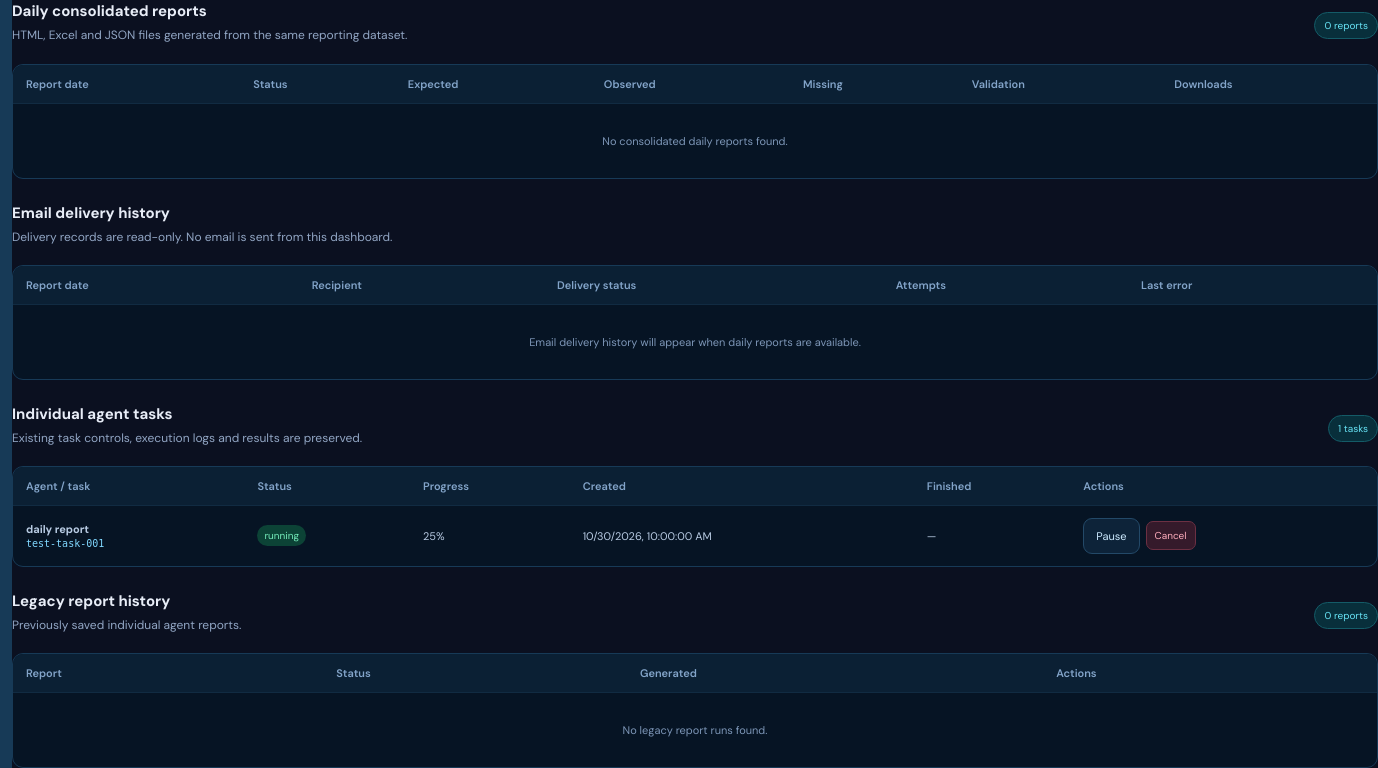
Test case: AgentMonitoring › pauses a running task after confirmation
This screenshot has width=1378, height=768.
(page scrolled)
Expected: the text "test-task-001" is shown, [26,538,104,549]
What coordinates should you click on to do the following:
click the button "Pause"
I would click on:
 (1111, 536)
Its box is [1083,518,1140,554].
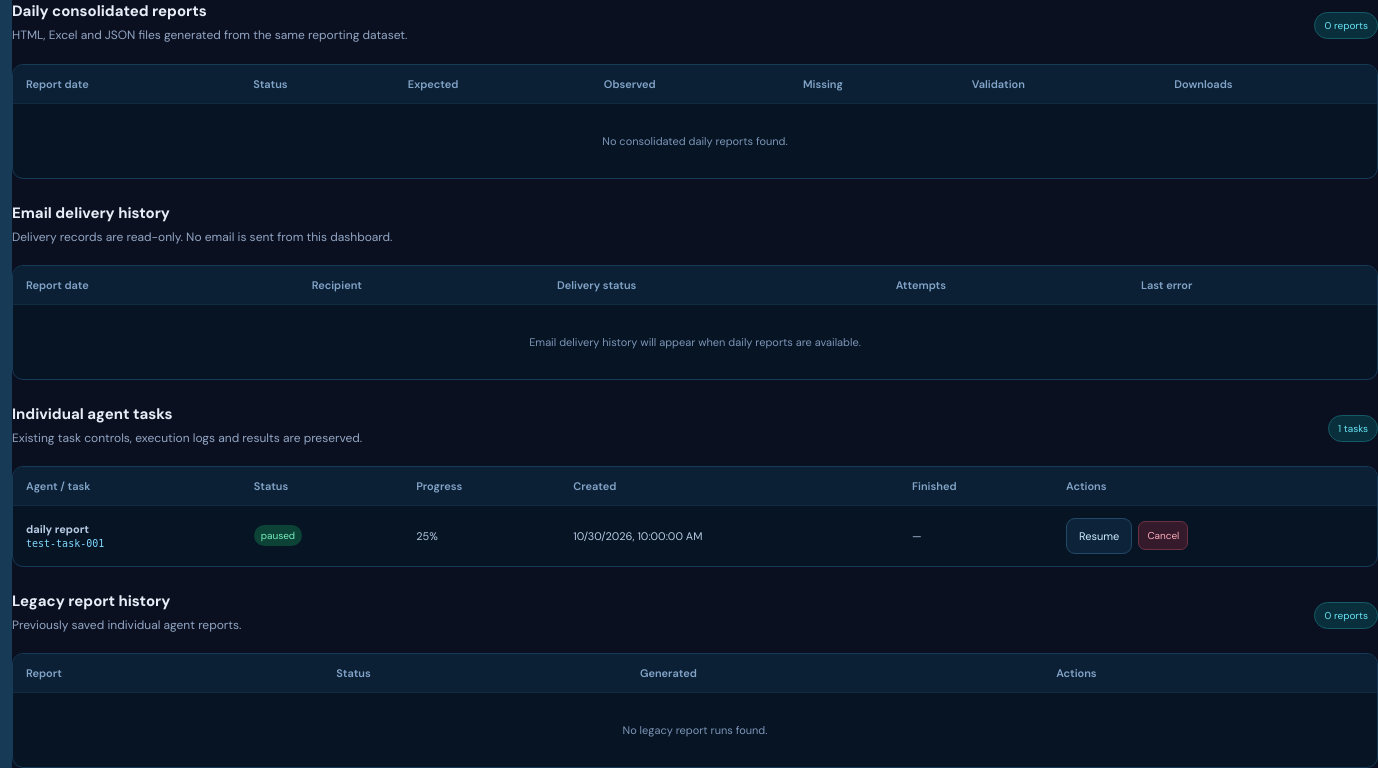
Expected: the text "paused" is shown, [254,525,302,546]
